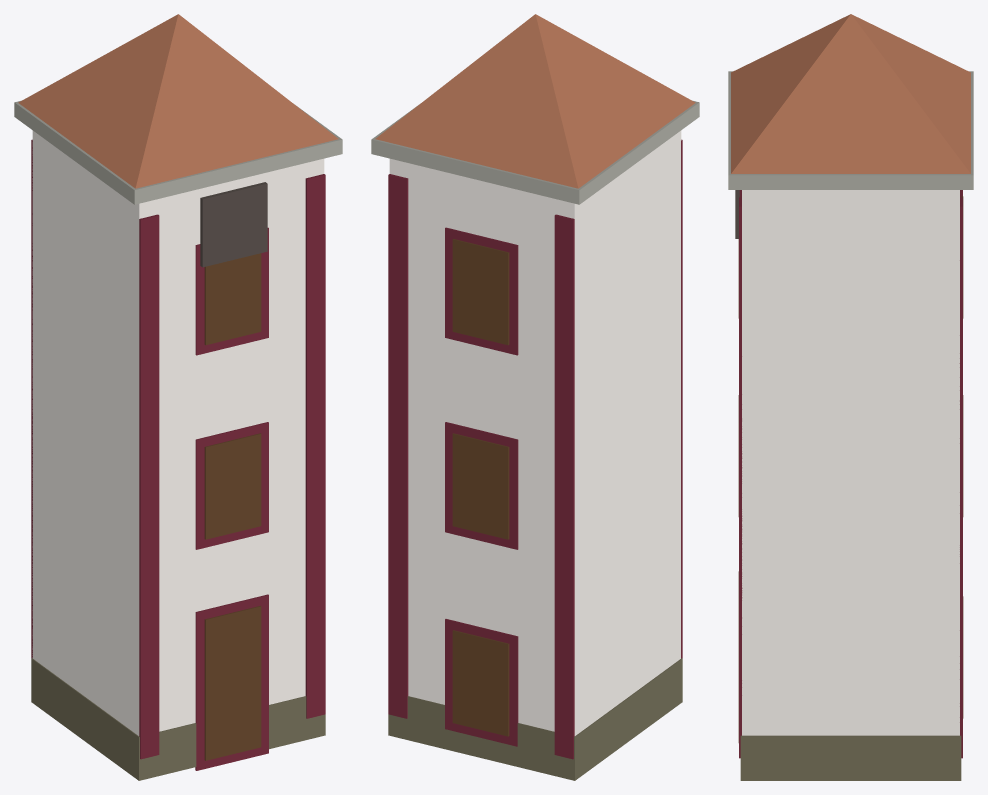
The model's file is SM_KitRemate_v2_LOD0.fbx.
3 renders of one model, left to right at view 1: azimuth 30°, elevation 25°; view 2: azimuth 150°, elevation 25°; view 3: azimuth 270°, elevation 25°, orthographic. The views are drawn at different scales.
Parts seen in each view (by area): view 1: SM_bloques.kit_remate_v2_LOD0; view 2: SM_bloques.kit_remate_v2_LOD0; view 3: SM_bloques.kit_remate_v2_LOD0.
Boxes of the visible parts, x1,y1,x2,y2 form: SM_bloques.kit_remate_v2_LOD0: [14, 14, 342, 780]; SM_bloques.kit_remate_v2_LOD0: [371, 14, 699, 780]; SM_bloques.kit_remate_v2_LOD0: [728, 14, 973, 780].
Size of the model in its own units: 4.48 by 14.58 by 4.48.
